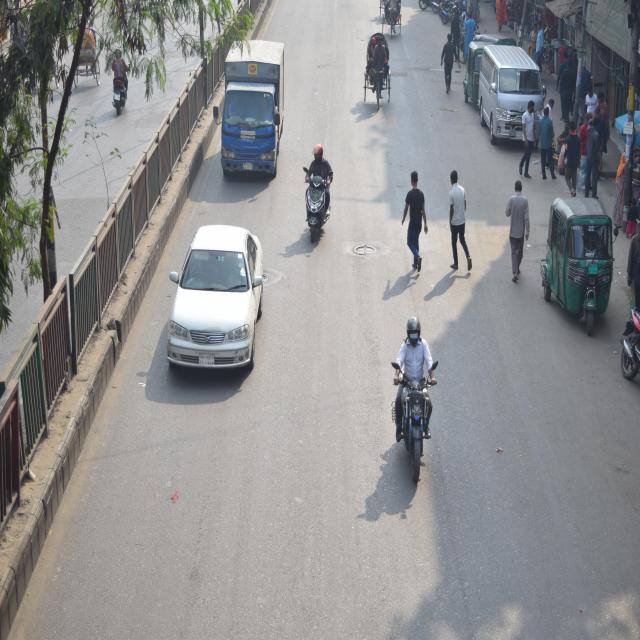car: (168, 220, 264, 385)
microbus: (473, 39, 548, 176)
motorbike: (392, 307, 441, 489), (300, 134, 336, 244), (110, 45, 134, 117)
pickup-van: (222, 31, 288, 180)
